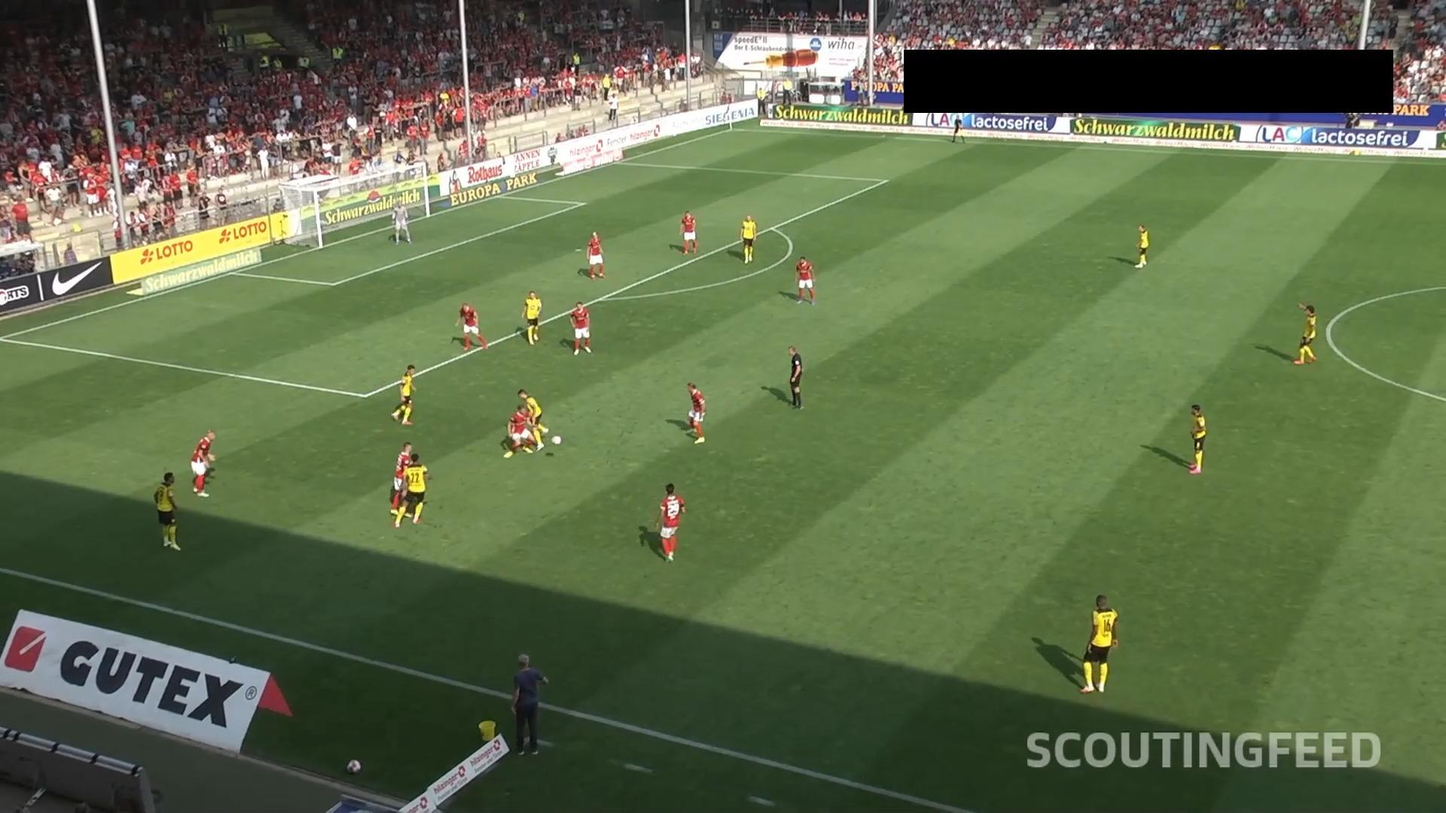ball: (552, 433, 563, 446)
goalkeeper: (392, 199, 411, 244)
player: (1081, 593, 1116, 695), (154, 473, 181, 549), (657, 485, 683, 563), (518, 391, 551, 450), (401, 454, 426, 522), (190, 430, 215, 496), (392, 366, 418, 424), (504, 406, 536, 453), (1294, 303, 1318, 363), (456, 303, 486, 351), (685, 379, 708, 441), (1187, 405, 1206, 473), (394, 443, 413, 510), (567, 303, 591, 355), (794, 258, 818, 304), (523, 291, 540, 345), (740, 215, 758, 264), (681, 212, 699, 256), (588, 233, 604, 277), (1136, 222, 1151, 268)
referee: (786, 345, 807, 410), (950, 112, 966, 144)
